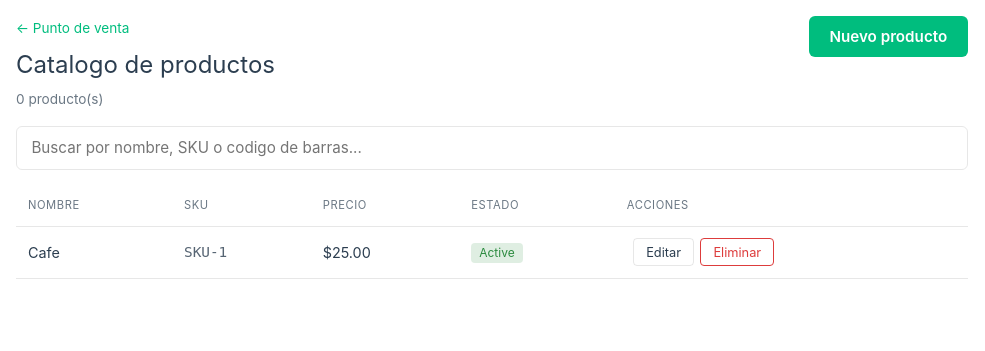
Test: ProductsView › elimina el producto al confirmar y muestra feedback
The image size is (985, 351).
Click the button "Eliminar". click: (737, 252)
box: [700,238,774,266]
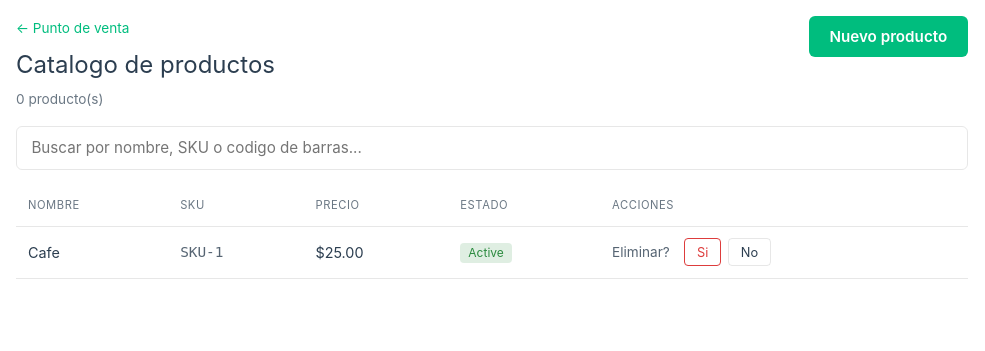
Expected: the button "Si" is shown
Click the button "Si". click: (703, 252)
box: [684,238,721,266]
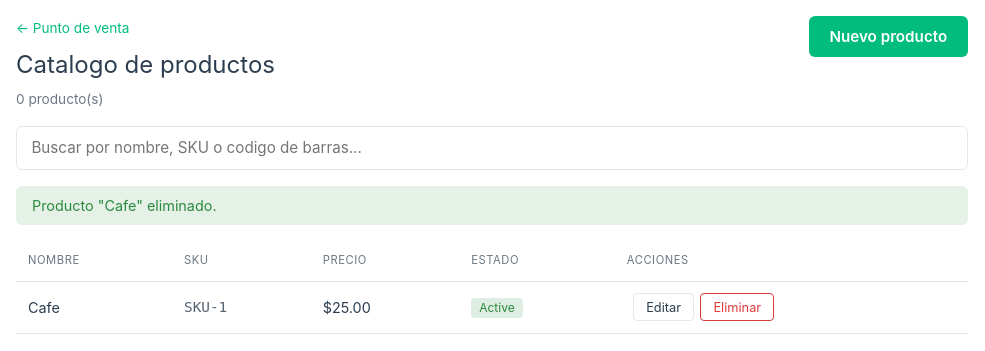
Expected: the text "Producto \"Cafe\" eliminado." is shown, [16,186,968,225]
